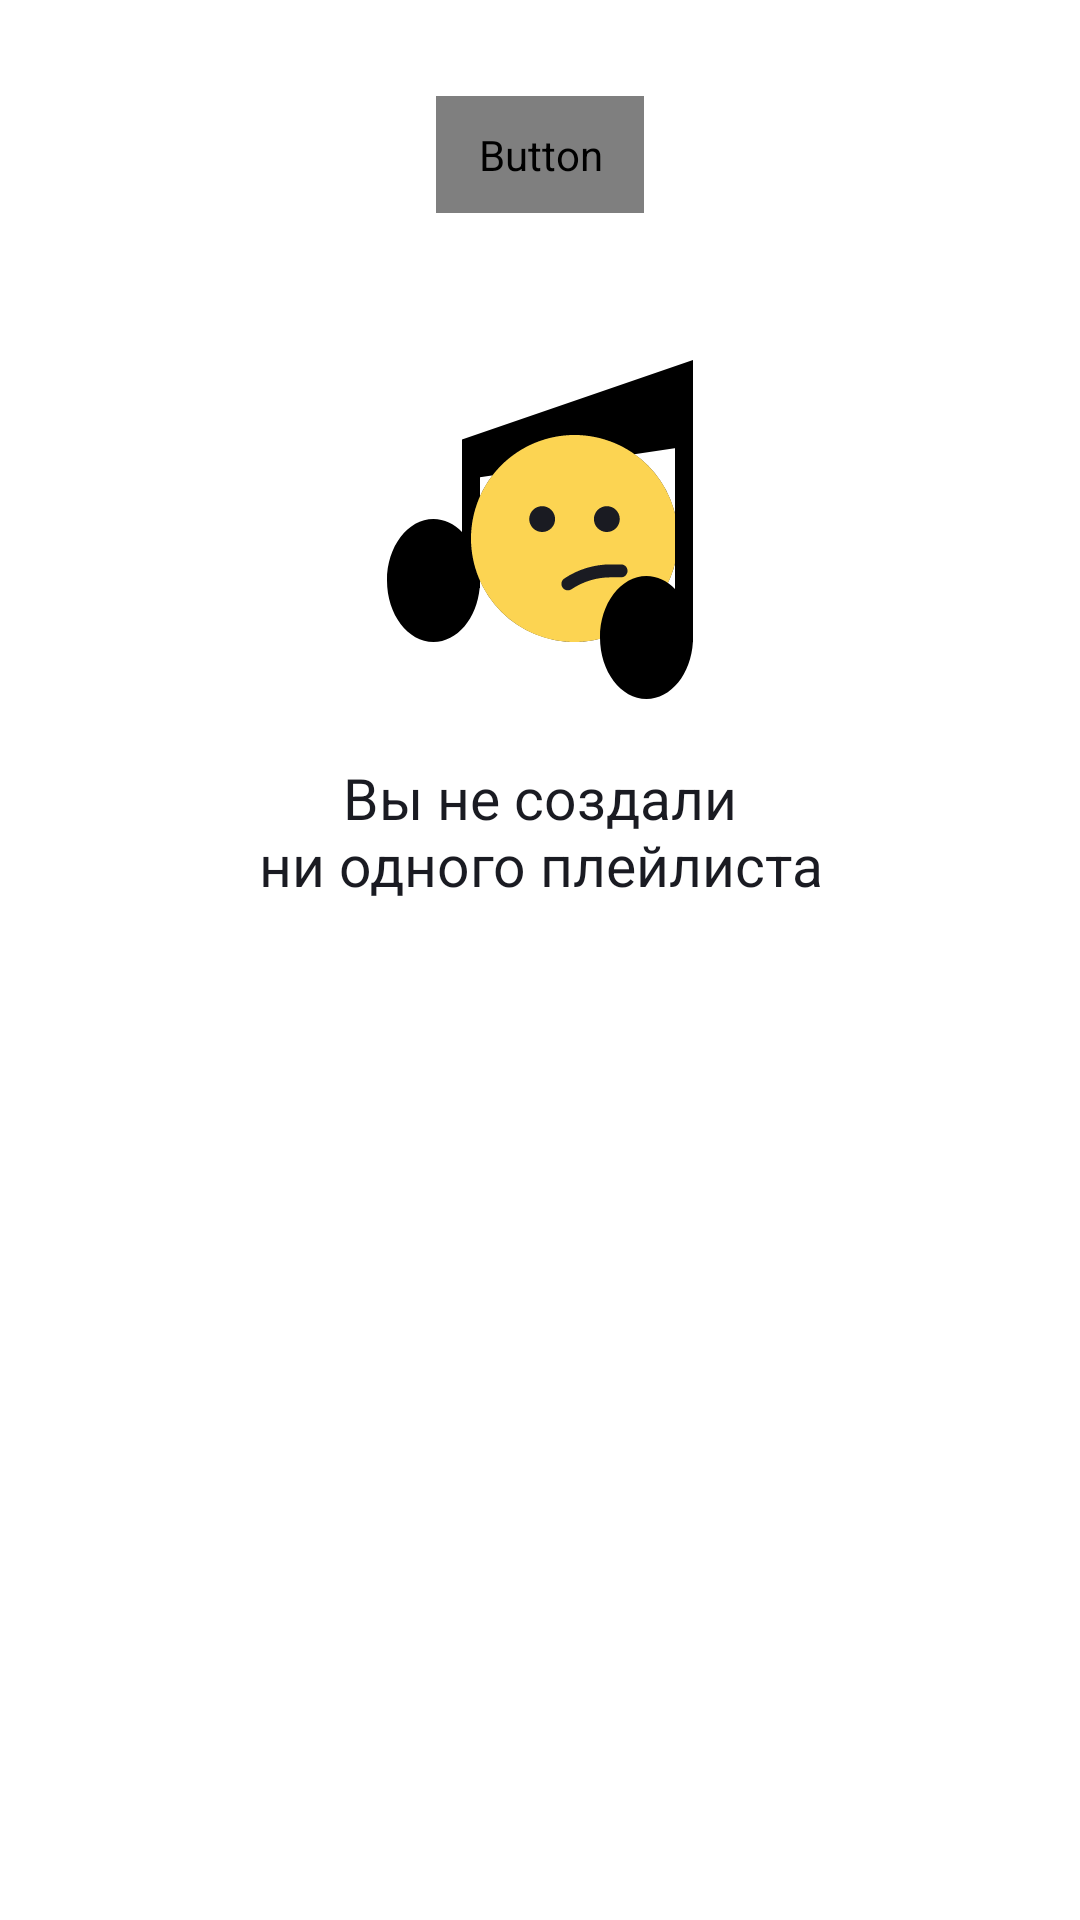

Screen size 1080px x 1920px. Icon name, then its center in pixels as [x,y]:
no results: [540,529]
